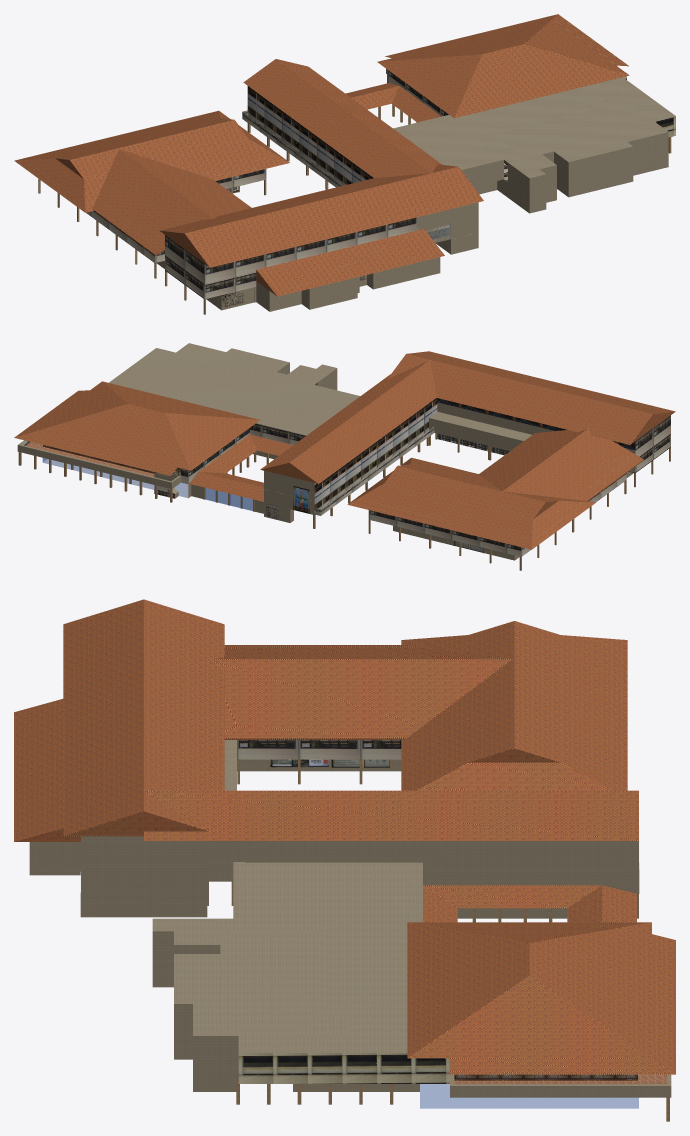
The model's file is 329 Guild v4xx_texture.fbx.
3 renders of one model, top to bottom at view 1: azimuth 30°, elevation 25°; view 2: azimuth 150°, elevation 25°; view 3: azimuth 270°, elevation 25°, orthographic. The views are drawn at different scales.
Visible parts, largest first — view 1: Model, Group7, Group3, Group8, Group2, Group5, Group4, Group1, Group6; view 2: Model, Group7, Group2, Group3, Group5, Group4, Group8, Group6; view 3: Model, Group7, Group3, Group2, Group5, Group4, Group8, Group1, Group6.
Boxes of the visible parts, x1,y1,x2,y2 form: Model: (86,69,675,311); Group7: (377,14,629,118); Group3: (159,164,483,267); Group8: (492,96,668,213); Group2: (14,110,289,212); Group5: (243,59,441,177); Group4: (92,149,251,255); Group1: (256,229,444,296); Group6: (345,83,440,122); Model: (17,348,670,560); Group7: (14,381,259,475); Group2: (347,457,595,549); Group3: (388,351,675,444); Group5: (260,360,436,483); Group4: (478,429,643,500); Group8: (145,343,337,399); Group6: (189,434,293,501); Model: (29,740,671,1108); Group7: (407,922,675,1074); Group3: (63,599,224,836); Group2: (401,621,627,790); Group5: (144,790,638,840); Group4: (211,645,511,739); Group8: (152,918,347,1091); Group1: (14,699,80,841); Group6: (423,885,636,922).
Bounding box in the file's own units: 111782 × 12760 × 72252.
